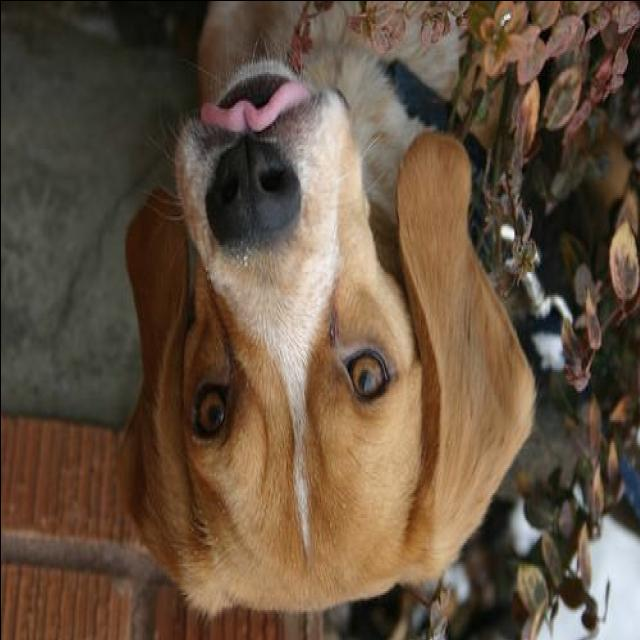beagle: (120, 2, 538, 619)
